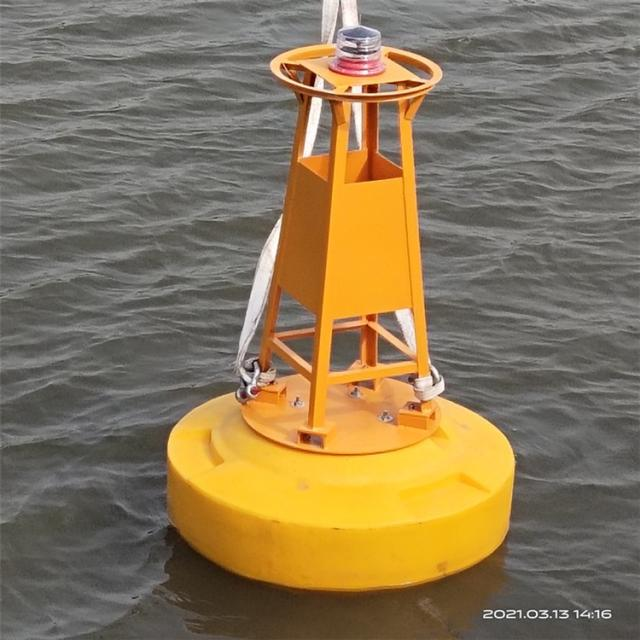buoy: (148, 5, 524, 592)
